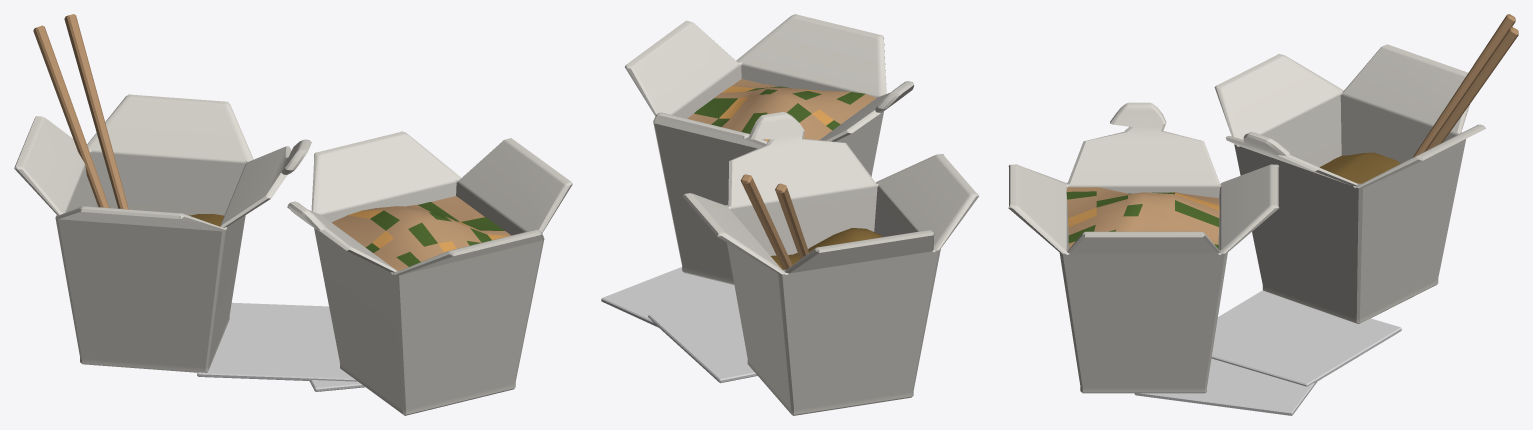
The model's file is Takeout_Freh.fbx.
3 renders of one model, left to right at view 1: azimuth 30°, elevation 25°; view 2: azimuth 150°, elevation 25°; view 3: azimuth 270°, elevation 25°, orthographic. The views are drawn at different scales.
Visible parts, largest first — view 1: pasted__polySurface8; view 2: pasted__polySurface8; view 3: pasted__polySurface8.
Part boxes in pixels (box(x1,y1,x2,y2)): pasted__polySurface8: box(14, 14, 572, 415); pasted__polySurface8: box(601, 14, 979, 415); pasted__polySurface8: box(1008, 14, 1518, 415).
Bounding box in the file's own units: 1.12 × 0.7219 × 1.26.
